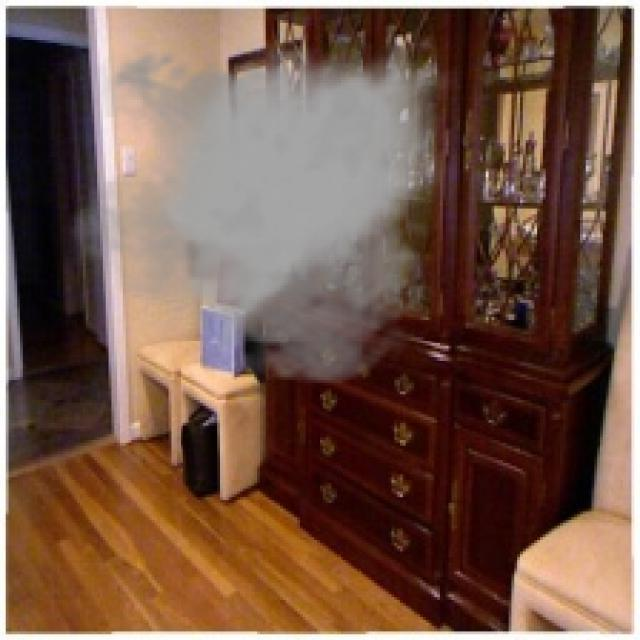Smoke: (69, 40, 458, 389)
